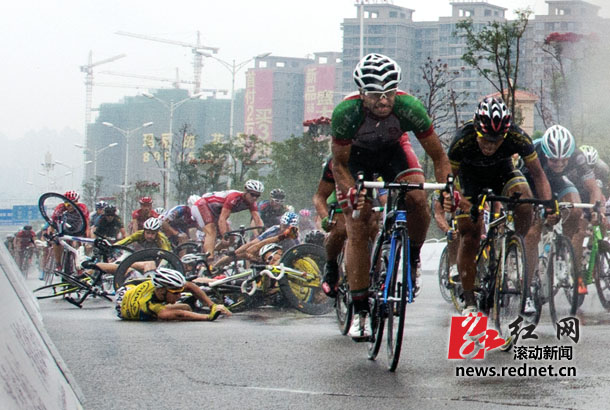10+: (1, 48, 604, 369)
down: (69, 247, 229, 327), (236, 239, 339, 320), (114, 211, 185, 280), (242, 209, 304, 254)
